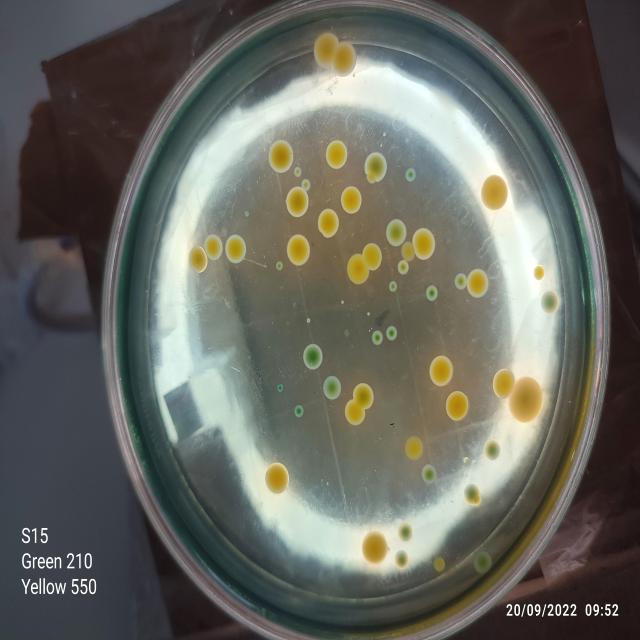green: (303, 343, 323, 370), (323, 376, 342, 400), (541, 291, 559, 314), (474, 551, 492, 573), (484, 440, 500, 460), (398, 523, 413, 542), (394, 550, 409, 569), (422, 465, 436, 484), (463, 484, 477, 498), (386, 326, 398, 341), (426, 286, 438, 301), (372, 330, 383, 346), (405, 168, 416, 182), (295, 405, 304, 418), (389, 282, 397, 292), (276, 261, 283, 271), (277, 384, 284, 392), (245, 211, 249, 217), (306, 318, 310, 324), (341, 300, 344, 305), (367, 312, 370, 316)
yellow: (509, 377, 543, 423), (481, 174, 508, 211), (361, 530, 388, 565), (331, 42, 357, 77), (269, 140, 294, 174), (314, 33, 338, 67), (287, 234, 311, 266), (266, 462, 290, 493), (346, 254, 370, 285), (430, 355, 453, 387), (286, 186, 309, 218), (414, 228, 436, 261), (446, 392, 469, 422), (492, 368, 515, 398), (364, 152, 387, 182), (318, 208, 340, 238), (326, 140, 348, 169), (226, 234, 247, 264), (467, 269, 488, 298), (341, 186, 362, 214), (386, 219, 407, 247), (353, 383, 374, 409), (345, 400, 366, 426), (363, 243, 382, 271), (189, 246, 208, 273), (405, 436, 423, 461), (205, 234, 222, 260), (401, 242, 415, 261), (454, 272, 466, 290), (533, 266, 545, 280), (434, 557, 445, 571), (398, 260, 409, 274), (366, 173, 376, 184), (301, 179, 310, 191), (294, 166, 302, 178), (474, 495, 481, 505), (463, 456, 469, 464)
